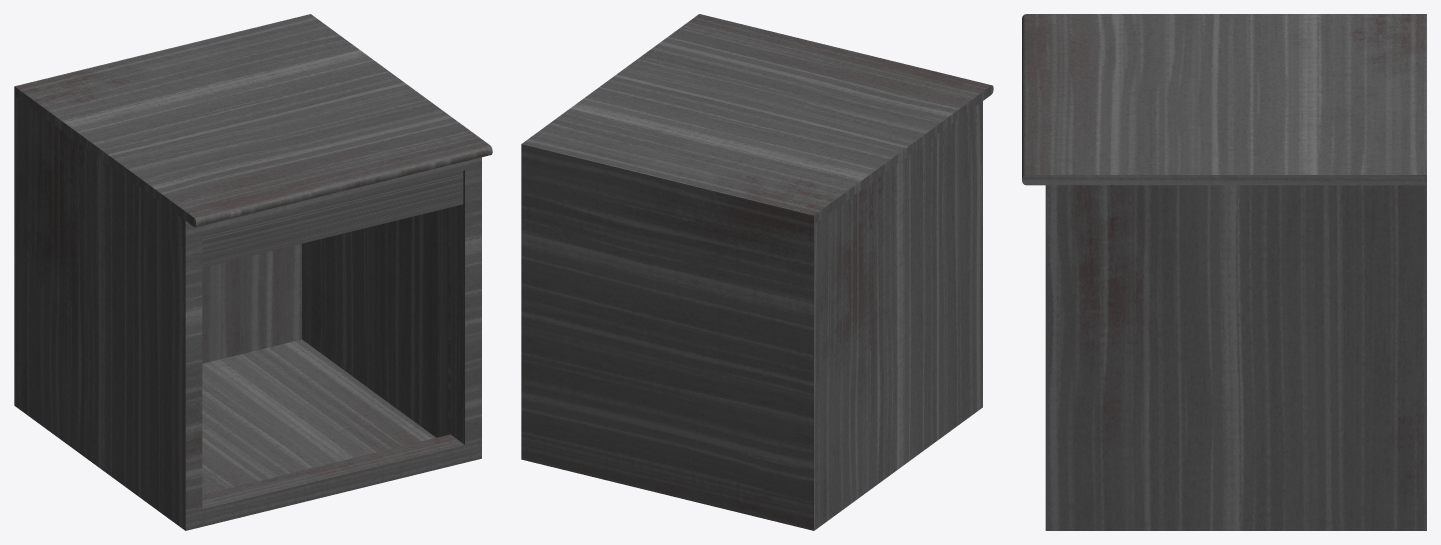
File: SM_Counter_WithDoor_01.fbx
3 views of the same model, side by side, from view 1: azimuth 30°, elevation 25°; view 2: azimuth 150°, elevation 25°; view 3: azimuth 270°, elevation 25° (orthographic). The views are drawn at different scales.
Visible parts, largest first — view 1: Counter_WithDoor; view 2: Counter_WithDoor; view 3: Counter_WithDoor.
Part boxes in pixels (x1,y1,x2,y2): Counter_WithDoor: [14, 14, 492, 530]; Counter_WithDoor: [521, 14, 993, 530]; Counter_WithDoor: [1022, 14, 1426, 530].
Size of the model in its own units: 89.62 by 92.28 by 95.16.
